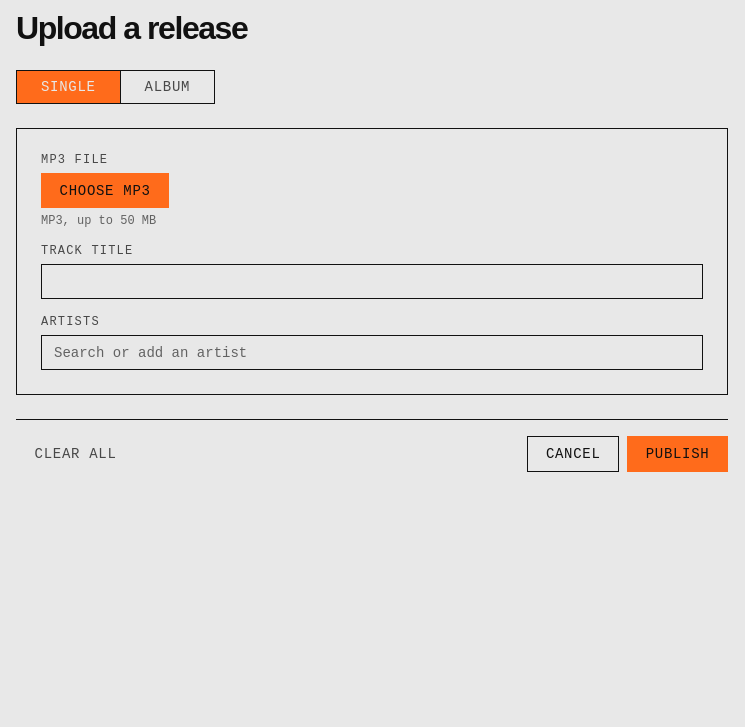
Test: UploadForm › album mode shows album fields and lets you add tracks
The width and height of the screenshot is (745, 727).
Click the radio button labelled "Album" at (167, 87), box [120, 71, 214, 103]
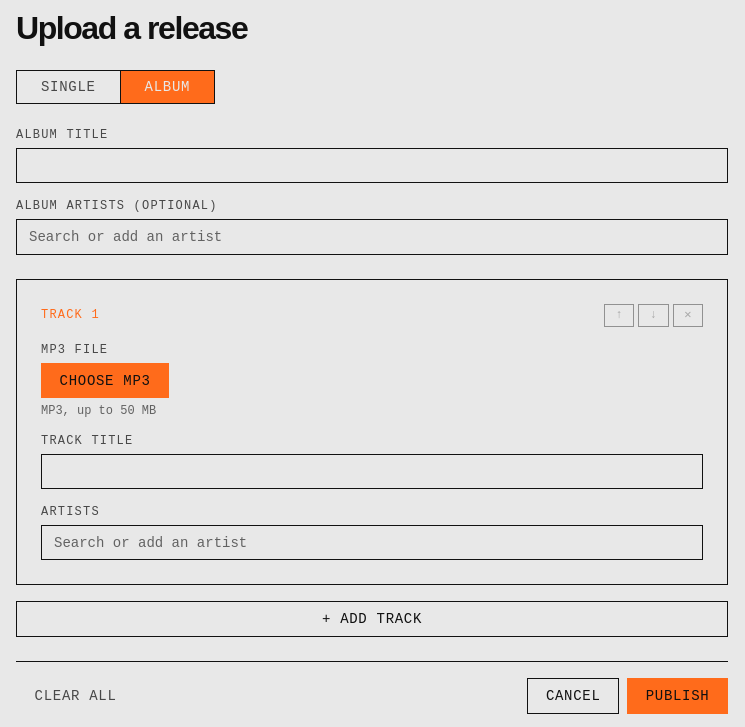
Expected: the field labelled "Album title" is shown, [16, 148, 728, 183]
Click the button "+ Add track" at (372, 619), box [16, 601, 728, 637]
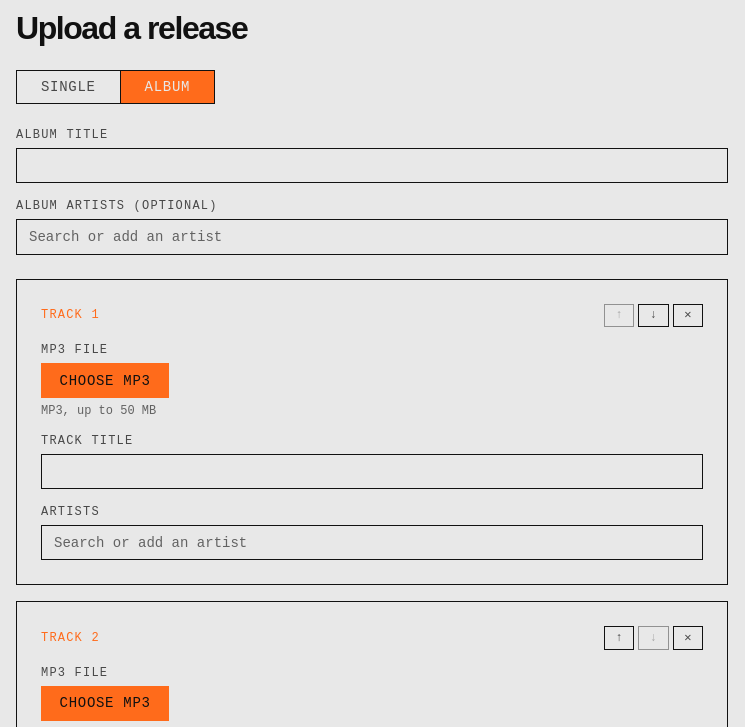
Expected: the text "Track 2" is shown, [41, 631, 100, 645]
